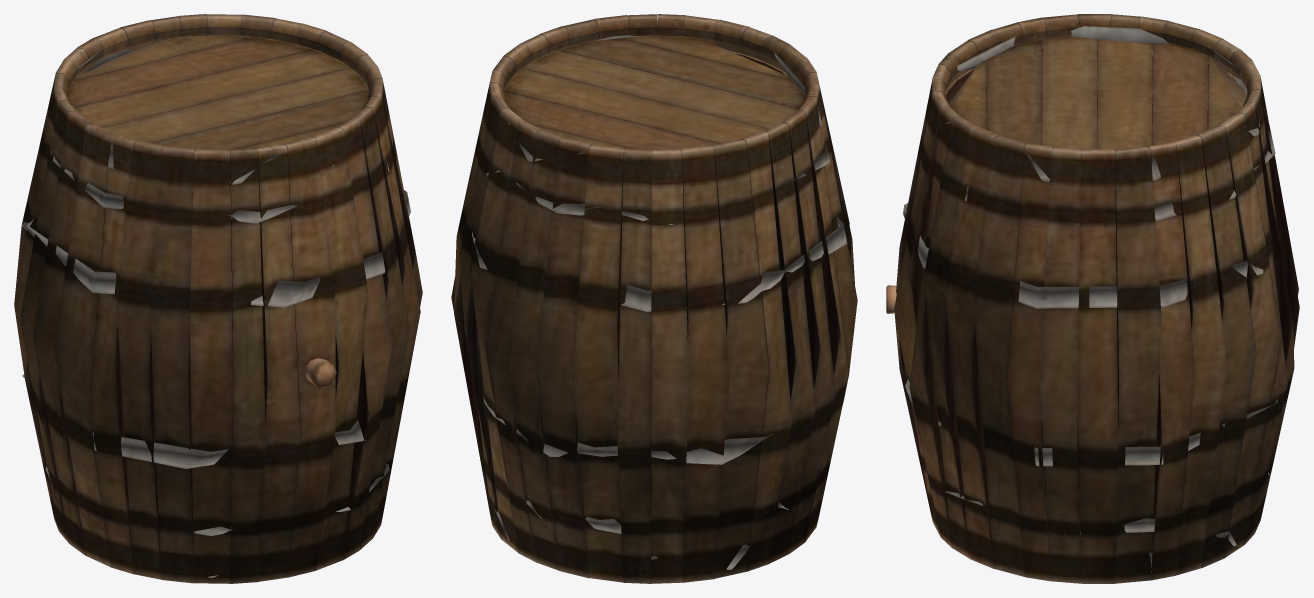
File: wine_barrel_01.glb
3 views of the same model, side by side, from view 1: azimuth 30°, elevation 25°; view 2: azimuth 150°, elevation 25°; view 3: azimuth 270°, elevation 25° (orthographic).
Parts seen in each view (by area): view 1: wine_barrel_01, wine_barrel_01_Lid, wine_barrel_01_bung; view 2: wine_barrel_01, wine_barrel_01_Lid; view 3: wine_barrel_01, wine_barrel_01_Lid.
Boxes of the visible parts, x1,y1,x2,y2 form: wine_barrel_01: (14,14,422,583); wine_barrel_01_Lid: (67,36,368,149); wine_barrel_01_bung: (304,358,336,387); wine_barrel_01: (451,14,857,583); wine_barrel_01_Lid: (503,36,804,152); wine_barrel_01: (894,14,1299,583); wine_barrel_01_Lid: (949,36,1247,149).
Size of the model in its own units: 0.7419 by 0.8695 by 0.7553.
Materials: 1 (1 with a texture image).
